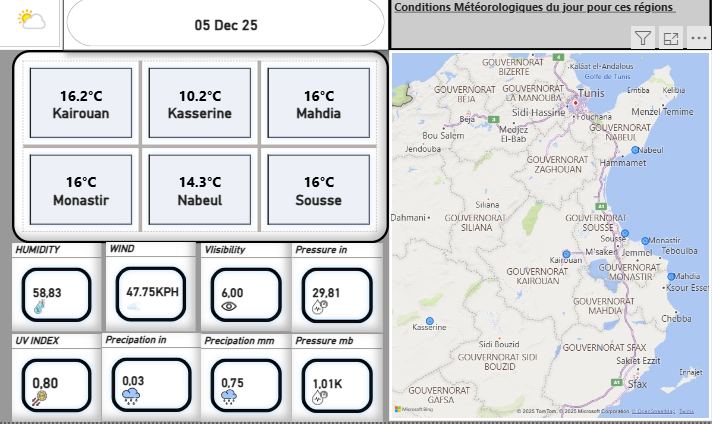

What the dashboard file says about the page in this screenshot:
{"tool":"powerbi","page":{"name":"Page 1","canvas":[1280,720],"ordinal":0},"visuals":[{"type":"advancedSlicerVisual","title":"Pressure ","fields":{"Values":["Current in tunisia.location.name"]},"box":[35.5,94.7,634.1,324.6],"z":0},{"type":"cardVisual","fields":{"Data":["Min(Current in tunisia.current.condition.icon)"]},"box":[0,0,121.3,94.3],"z":1000},{"type":"cardVisual","title":"HUMIDITY ","fields":{"Data":["Current in tunisia.moyenne de humidité"]},"box":[35.5,419.3,150.5,148.8],"z":2000},{"type":"cardVisual","fields":{"Data":["Current in tunisia.last_update_data_curr"]},"box":[121.7,0,547.8,94.7],"z":3000},{"type":"cardVisual","title":"VIisibility","fields":{"Data":["Avg(Current in tunisia.current.vis_miles)"]},"box":[353.4,419.3,152.2,148.8],"z":5000},{"type":"cardVisual","title":"UV INDEX","fields":{"Data":["Avg(Current in tunisia.current.uv)"]},"box":[35.5,571.5,150.5,147.1],"z":6000},{"type":"cardVisual","title":"Precipation in ","fields":{"Data":["Sum(Current in tunisia.current.precip_in)"]},"box":[186,569.8,167.4,148.8],"z":7000},{"type":"cardVisual","title":"Precipation mm","fields":{"Data":["Sum(Current in tunisia.current.precip_mm)"]},"box":[353.4,571.5,152.2,147.1],"z":8000},{"type":"cardVisual","title":"Pressure in","fields":{"Data":["Avg(Current in tunisia.current.pressure_in)"]},"box":[505.6,419.3,152.2,150.5],"z":9000},{"type":"cardVisual","title":"Pressure  mb","fields":{"Data":["Avg(Current in tunisia.current.pressure_mb)"]},"box":[505.6,571.5,152.2,148.8],"z":10000},{"type":"textbox","box":[669.6,0,542.8,94.7],"z":11000},{"type":"map","fields":{"Category":["Current in tunisia.location.name"]},"box":[669.4,94.2,543.3,624],"z":12000},{"type":"cardVisual","title":"WIND","fields":{"Data":["Current in tunisia.SUM WIND KPH"]},"box":[193.4,417.1,151.4,149.7],"z":12001}]}

Visuals, with their boxes on the page's 1280x720 design canvas (x1, y1, x2, y2). These are canvas units, not pixel positions in the 712x424 screenshot, which may show the page scaled, cropped or inside an application window:
"Pressure " advancedSlicerVisual: {"left": 36, "top": 95, "right": 670, "bottom": 419}
cardVisual - Min(Current in tunisia.current.condition.icon): {"left": 0, "top": 0, "right": 121, "bottom": 94}
"HUMIDITY " cardVisual: {"left": 36, "top": 419, "right": 186, "bottom": 568}
cardVisual - Current in tunisia.last_update_data_curr: {"left": 122, "top": 0, "right": 670, "bottom": 95}
"VIisibility" cardVisual: {"left": 353, "top": 419, "right": 506, "bottom": 568}
"UV INDEX" cardVisual: {"left": 36, "top": 572, "right": 186, "bottom": 719}
"Precipation in " cardVisual: {"left": 186, "top": 570, "right": 353, "bottom": 719}
"Precipation mm" cardVisual: {"left": 353, "top": 572, "right": 506, "bottom": 719}
"Pressure in" cardVisual: {"left": 506, "top": 419, "right": 658, "bottom": 570}
"Pressure  mb" cardVisual: {"left": 506, "top": 572, "right": 658, "bottom": 720}
textbox: {"left": 670, "top": 0, "right": 1212, "bottom": 95}
map - Current in tunisia.location.name: {"left": 669, "top": 94, "right": 1213, "bottom": 718}
"WIND" cardVisual: {"left": 193, "top": 417, "right": 345, "bottom": 567}
